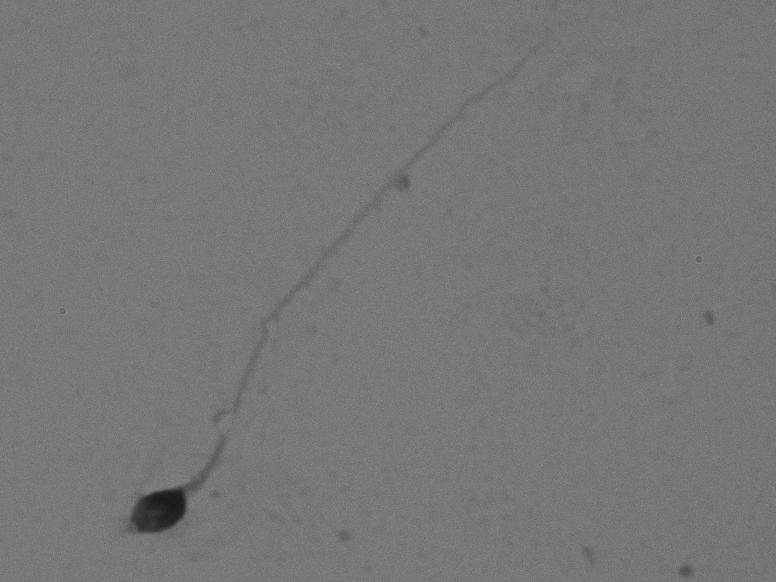Abnormal: (88, 14, 641, 550)
